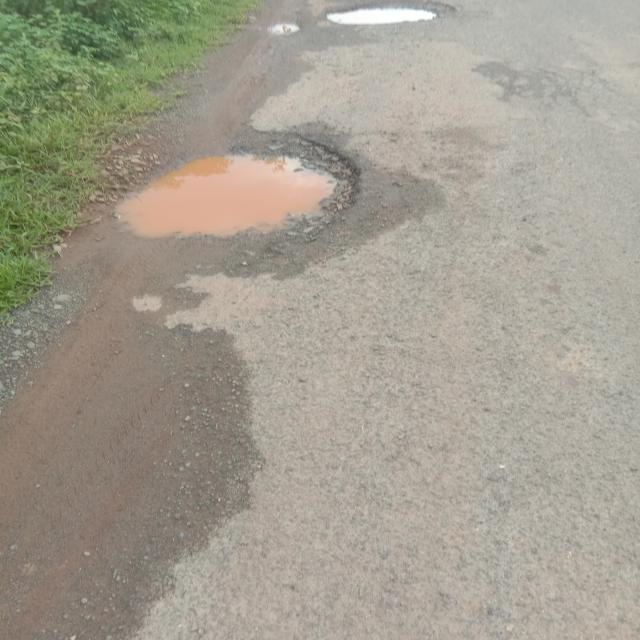potholes: (112, 134, 363, 249), (322, 2, 474, 28), (264, 19, 303, 39)
